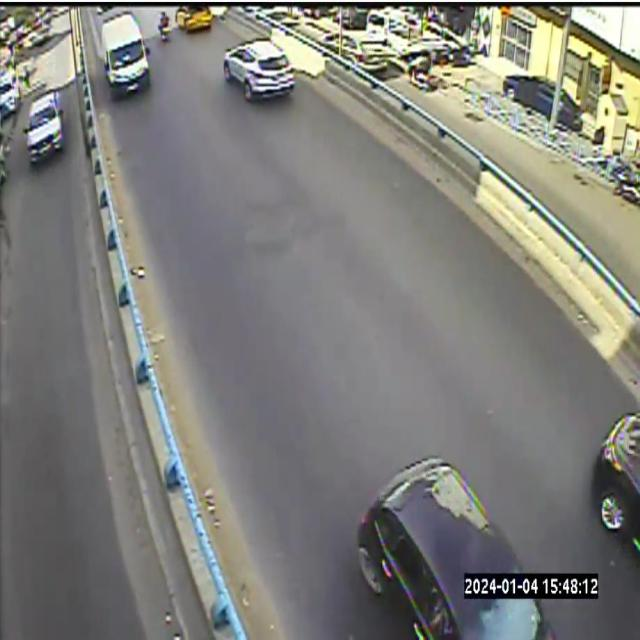car: (358, 458, 554, 639), (96, 7, 160, 115), (503, 77, 554, 118), (342, 38, 393, 73), (175, 4, 220, 34), (557, 89, 582, 130), (320, 34, 339, 52)
